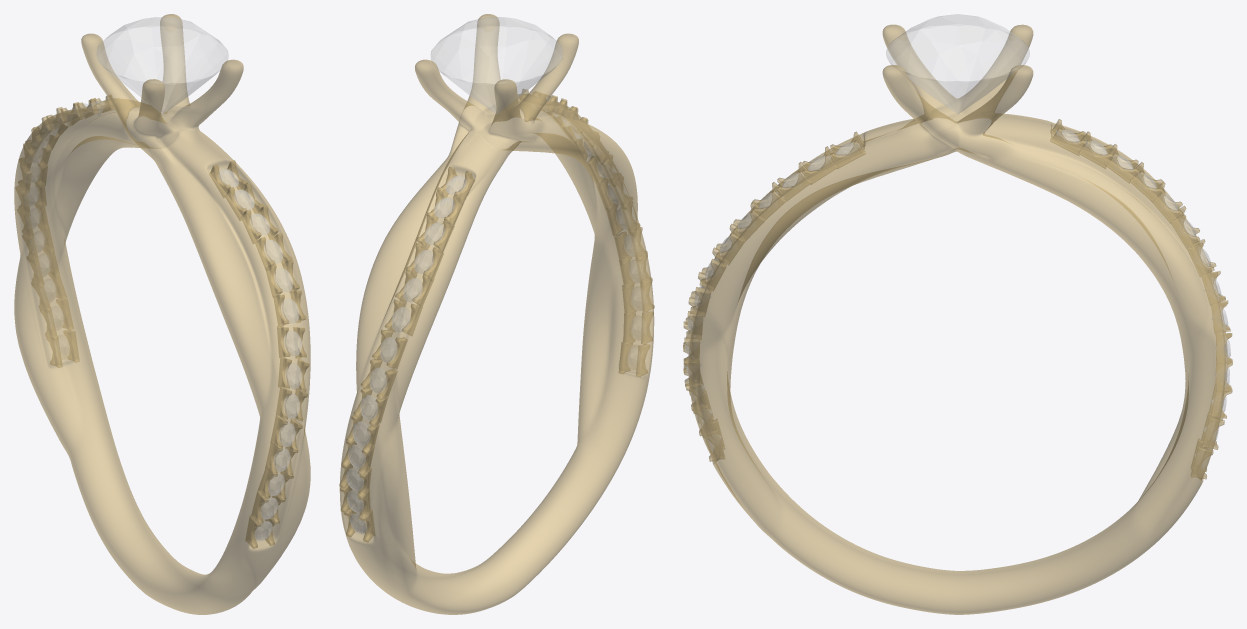
The picture shows the model from 3 angles, left to right: view 1: azimuth 30°, elevation 25°; view 2: azimuth 150°, elevation 25°; view 3: azimuth 270°, elevation 25°; orthographic projection. The views are drawn at different scales.
Visible parts, largest first — view 1: Ring, Diamond; view 2: Ring, Diamond; view 3: Ring, Diamond.
Boxes of the visible parts, x1,y1,x2,y2 form: Ring: (14,14,310,614); Diamond: (28,17,301,540); Ring: (339,14,654,614); Diamond: (346,17,641,533); Ring: (683,24,1232,614); Diamond: (685,14,1230,468).
Bounding box in the file's own units: 0.5733 × 2.73 × 2.34.
